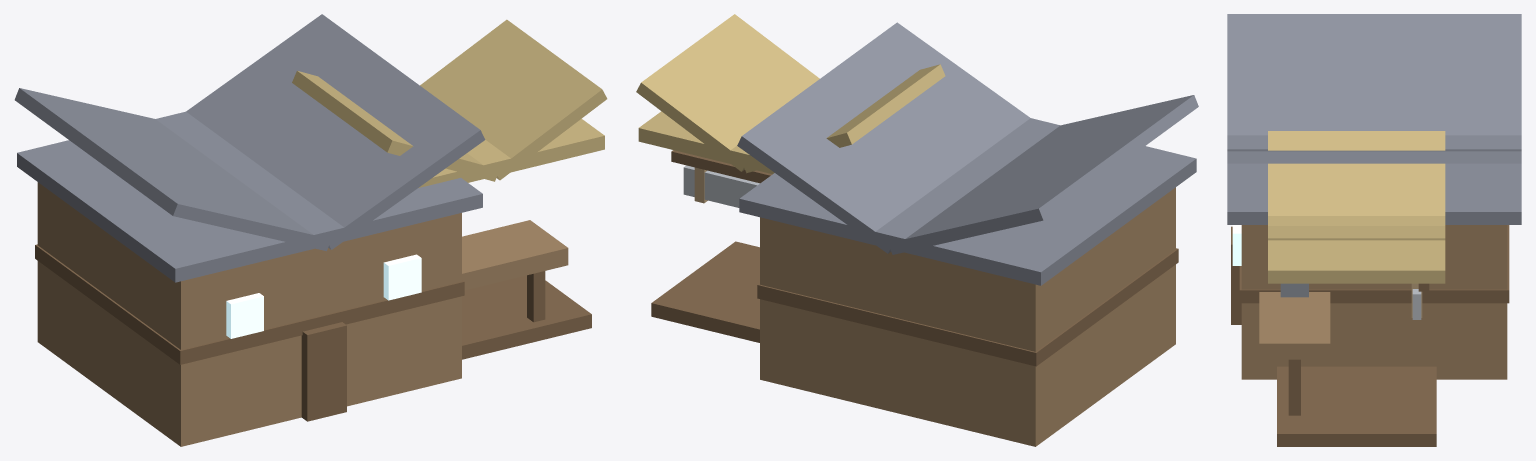
File: toolsmith.glb
3 views of the same model, side by side, from view 1: azimuth 30°, elevation 25°; view 2: azimuth 150°, elevation 25°; view 3: azimuth 270°, elevation 25° (orthographic). The views are drawn at different scales.
Visible parts, largest first — view 1: ToolsmithWall; view 2: ToolsmithWall; view 3: ToolsmithWall.
Part boxes in pixels (x1,y1,x2,y2): ToolsmithWall: (14, 14, 607, 446); ToolsmithWall: (636, 14, 1198, 446); ToolsmithWall: (1227, 14, 1521, 446).
Bounding box in the file's own units: 2.76 × 1.45 × 1.66.
